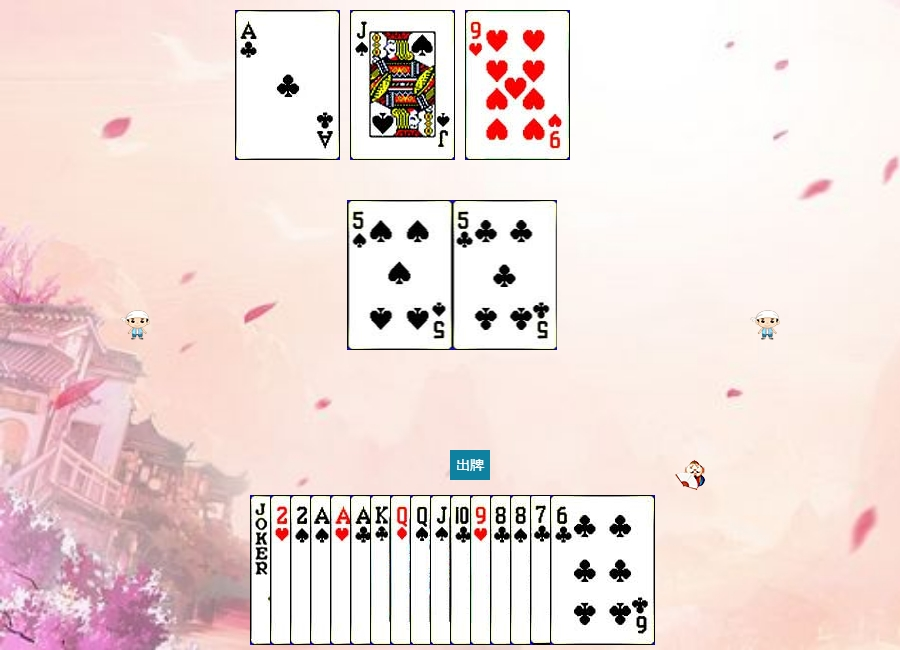10~2: (450, 495, 555, 645)
11~4: (350, 10, 455, 160), (430, 495, 535, 645)
12~1: (390, 495, 495, 645)
12~4: (410, 495, 515, 645)
13~2: (370, 495, 475, 645)
14~2: (235, 10, 340, 160), (350, 495, 455, 645)
14~3: (330, 495, 435, 645)
14~4: (310, 495, 415, 645)
15~3: (270, 495, 375, 645)
15~4: (290, 495, 395, 645)
17~3: (250, 495, 355, 645)
5~2: (453, 200, 558, 350)
5~4: (348, 200, 453, 350)
6~2: (550, 495, 655, 645)
7~2: (530, 495, 635, 645)
8~2: (490, 495, 595, 645)
8~4: (510, 495, 615, 645)
9~3: (465, 10, 570, 160), (470, 495, 575, 645)
